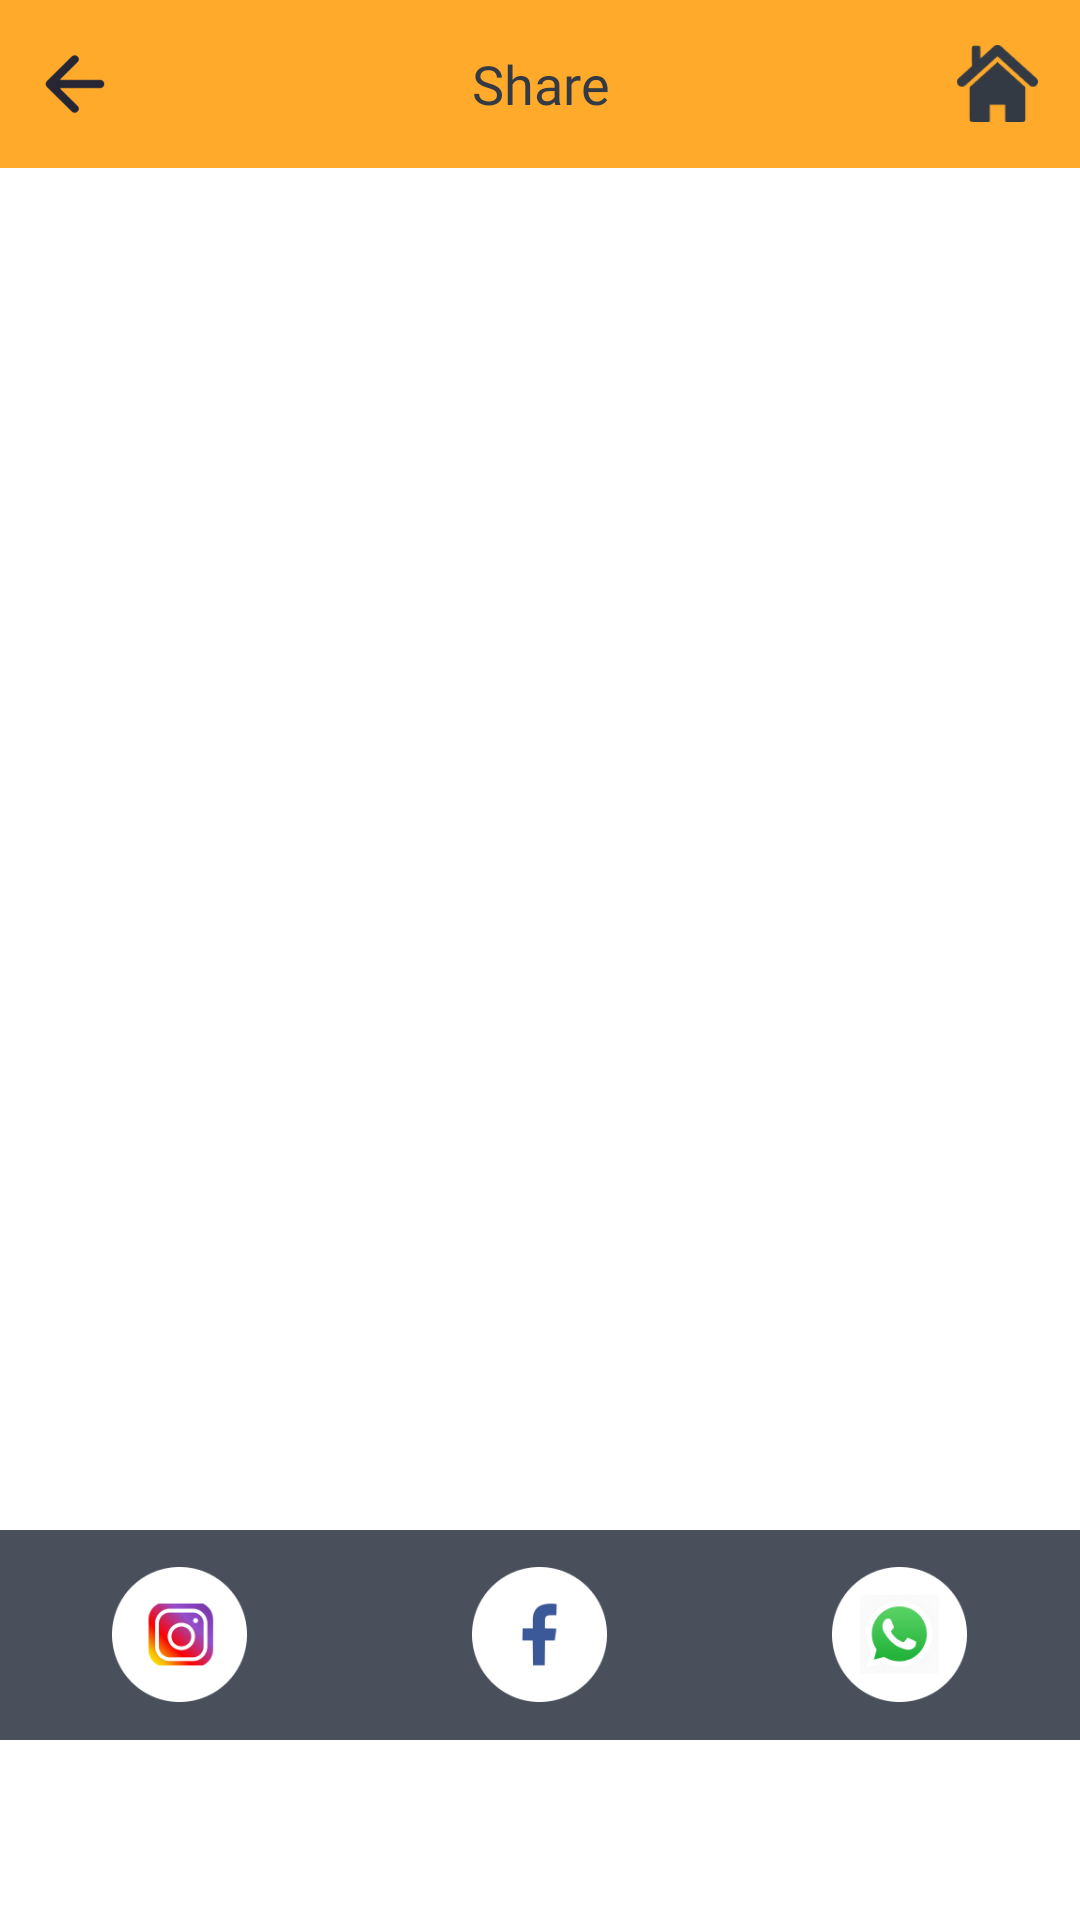

Screen size 1080px x 1920px. Icon name, then its center in pixels as (x,y):
back: (75,84)
home: (997,83)
